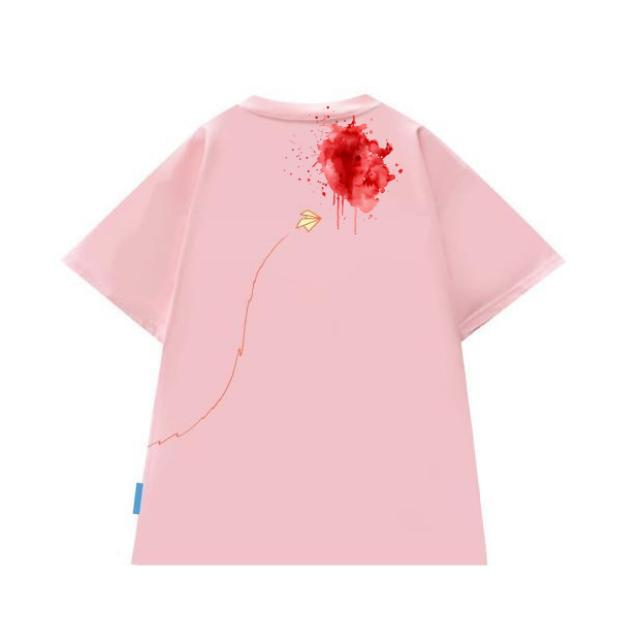stain: (314, 120, 398, 213)
